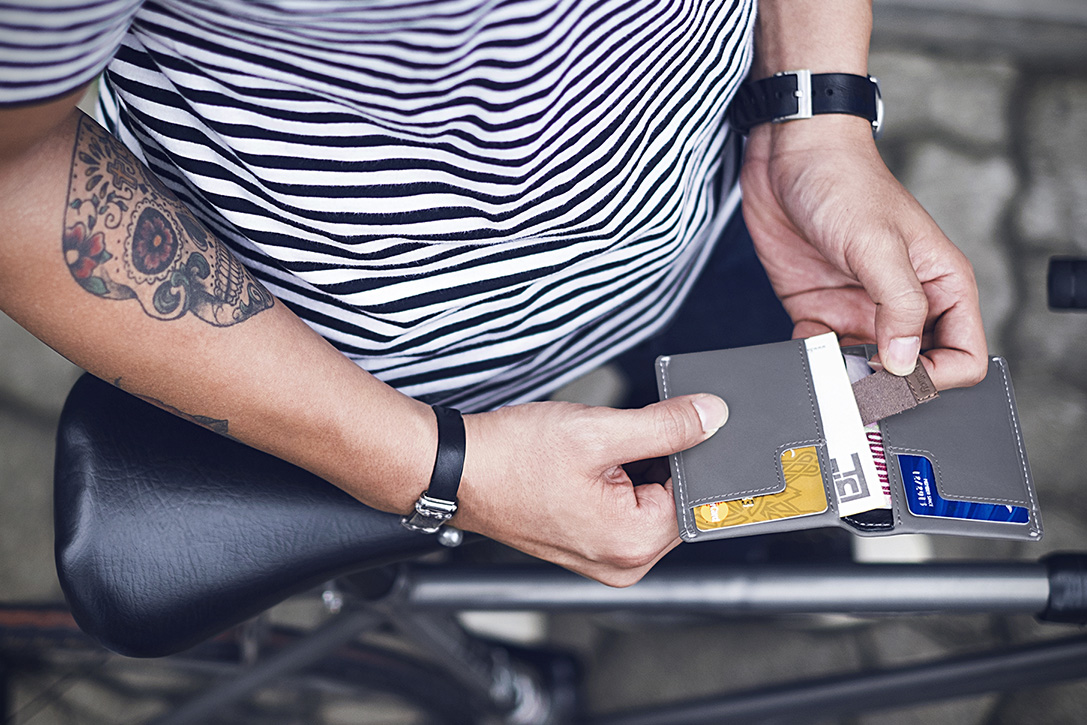monedero: (652, 330, 1047, 548)
